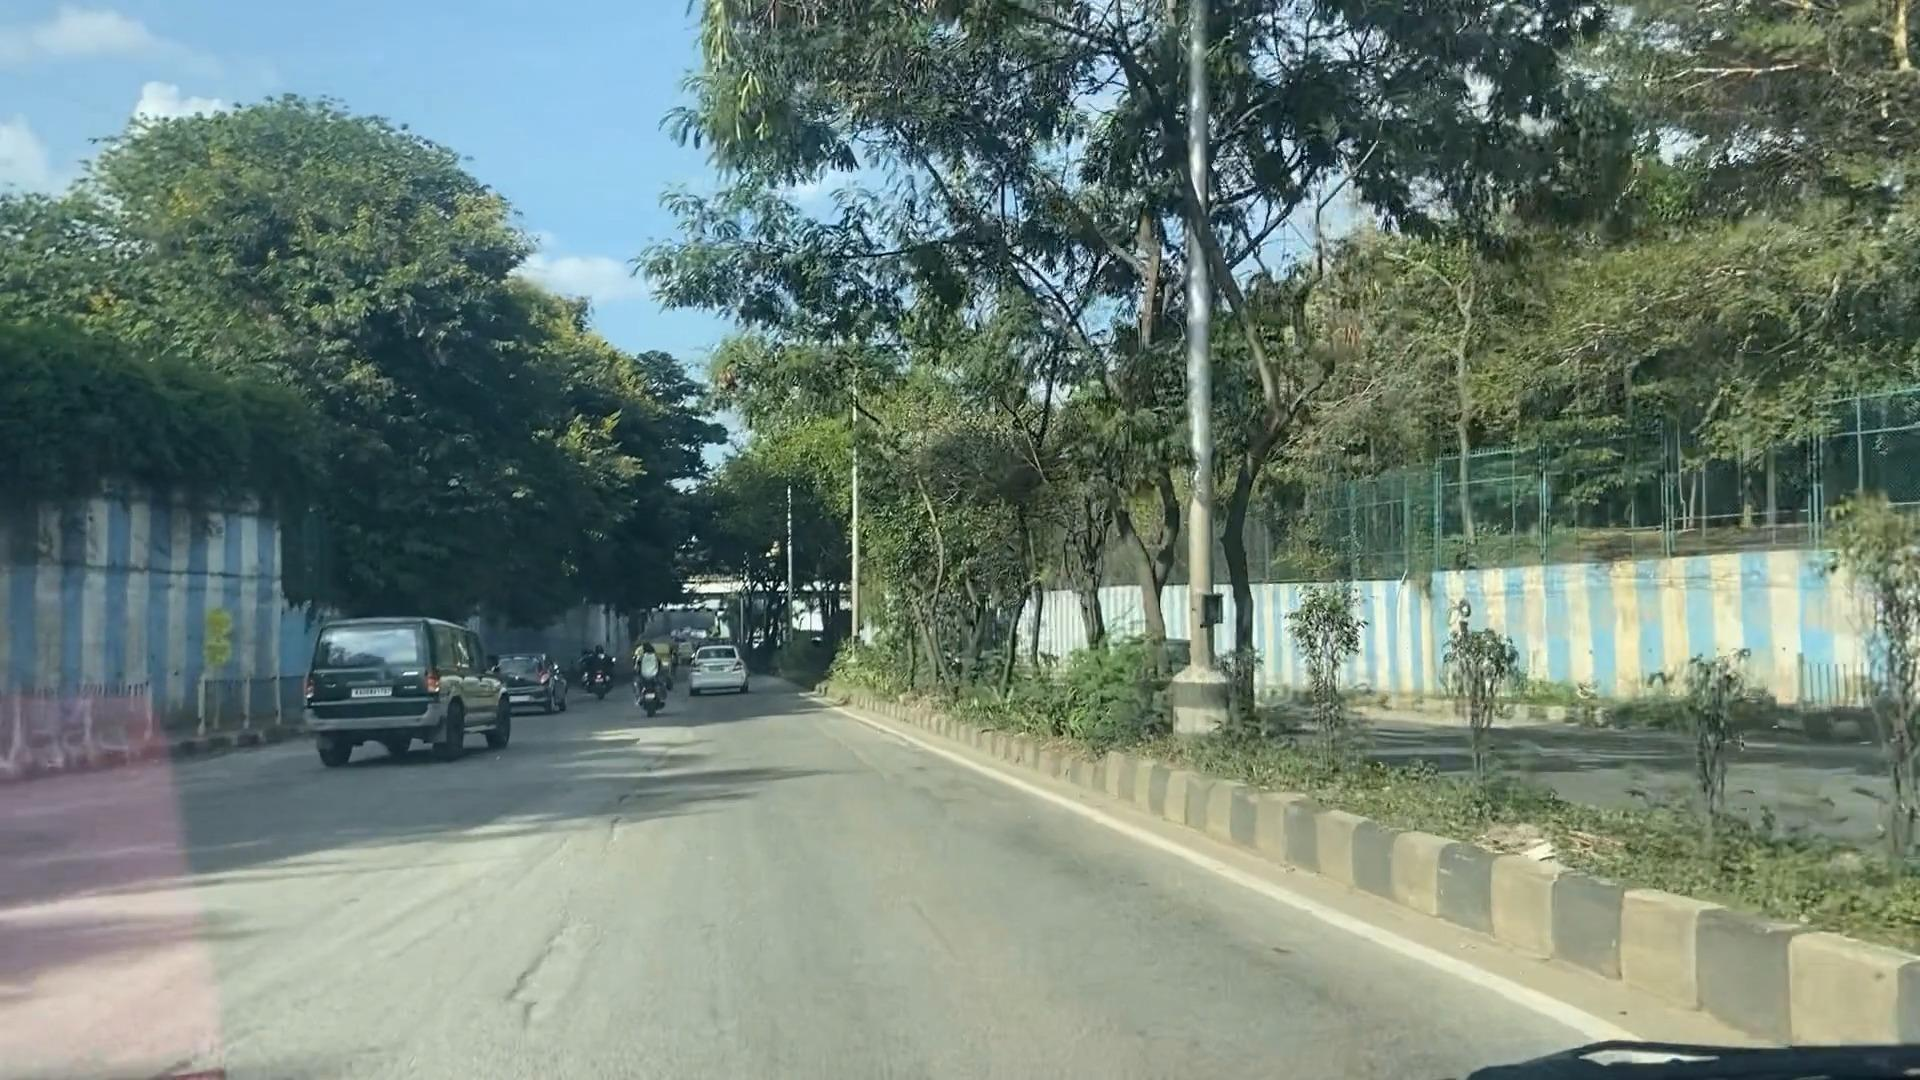LMV: (301, 611, 520, 754)
RoadDamages: (471, 861, 607, 1043)
